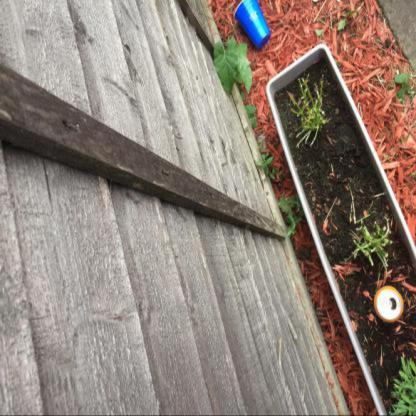Can: (374, 286, 404, 323)
Cup: (235, 0, 270, 48)
Pop tab: (382, 301, 392, 309)
